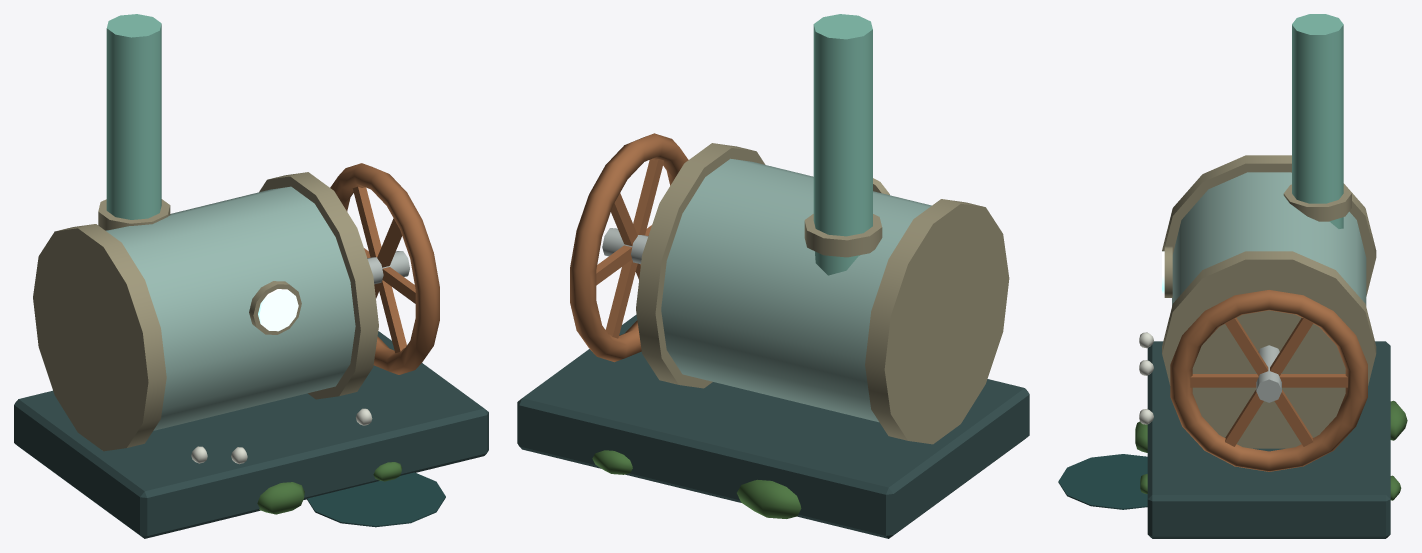
The model's file is dr_pump.glb.
3 views of the same model, side by side, from view 1: azimuth 30°, elevation 25°; view 2: azimuth 150°, elevation 25°; view 3: azimuth 270°, elevation 25° (orthographic). The views are drawn at different scales.
Visible parts, largest first — view 1: dr_pump; view 2: dr_pump; view 3: dr_pump.
Boxes of the visible parts, x1,y1,x2,y2 form: dr_pump: (14, 14, 488, 538); dr_pump: (517, 14, 1029, 538); dr_pump: (1058, 14, 1407, 538).
Size of the model in its own units: 2.3 by 2.72 by 2.15.
